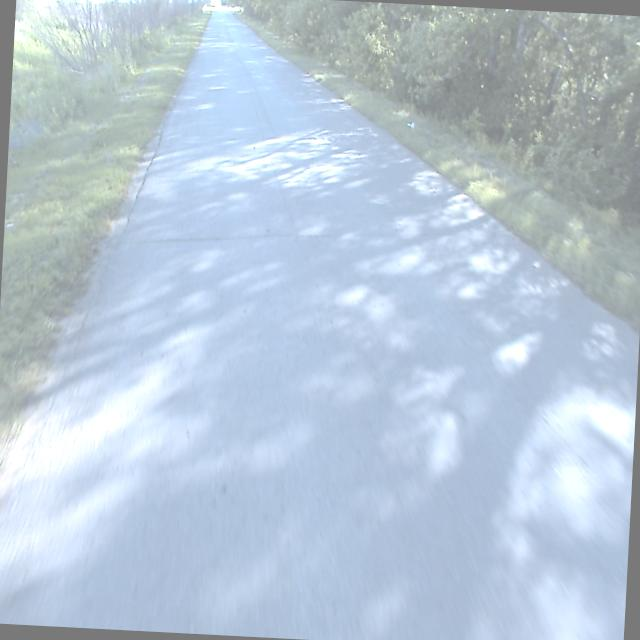road: (0, 11, 639, 640)
